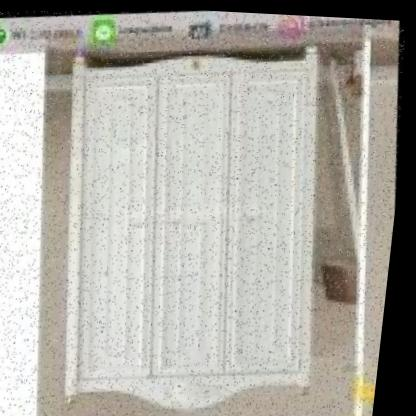Closet: (36, 25, 358, 416)
